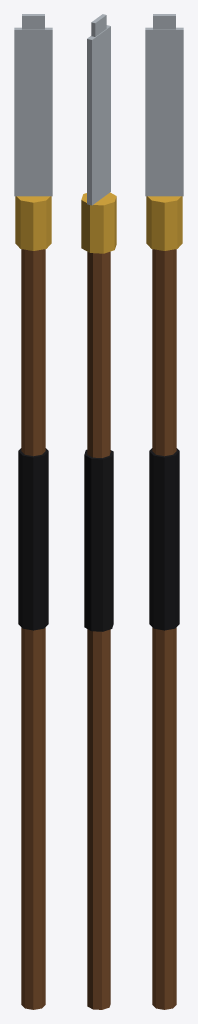
The model's file is Weapon_SurvivalSpear.obj.
3 renders of one model, left to right at view 1: azimuth 90°, elevation 25°; view 2: azimuth 150°, elevation 25°; view 3: azimuth 270°, elevation 25°, orthographic.
Parts seen in each view (by area): view 1: LongPole, SpearHead, CenterLashGrip, BindingWire, SpearTip; view 2: LongPole, CenterLashGrip, SpearHead, BindingWire, SpearTip; view 3: LongPole, SpearHead, CenterLashGrip, BindingWire, SpearTip.
Boxes of the visible parts, left/top/right/bottom form: LongPole: left=21, top=249, right=45, bottom=1009; SpearHead: left=14, top=27, right=52, bottom=196; CenterLashGrip: left=18, top=448, right=48, bottom=630; BindingWire: left=15, top=196, right=51, bottom=250; SpearTip: left=22, top=14, right=44, bottom=29; LongPole: left=87, top=251, right=110, bottom=1009; CenterLashGrip: left=84, top=449, right=113, bottom=631; SpearHead: left=87, top=25, right=110, bottom=205; BindingWire: left=81, top=192, right=116, bottom=253; SpearTip: left=91, top=14, right=106, bottom=36; LongPole: left=152, top=249, right=176, bottom=1009; SpearHead: left=145, top=27, right=183, bottom=196; CenterLashGrip: left=149, top=448, right=179, bottom=630; BindingWire: left=146, top=196, right=182, bottom=250; SpearTip: left=153, top=14, right=175, bottom=29.
Size of the model in its own units: 0.048 by 1.43 by 0.05.
